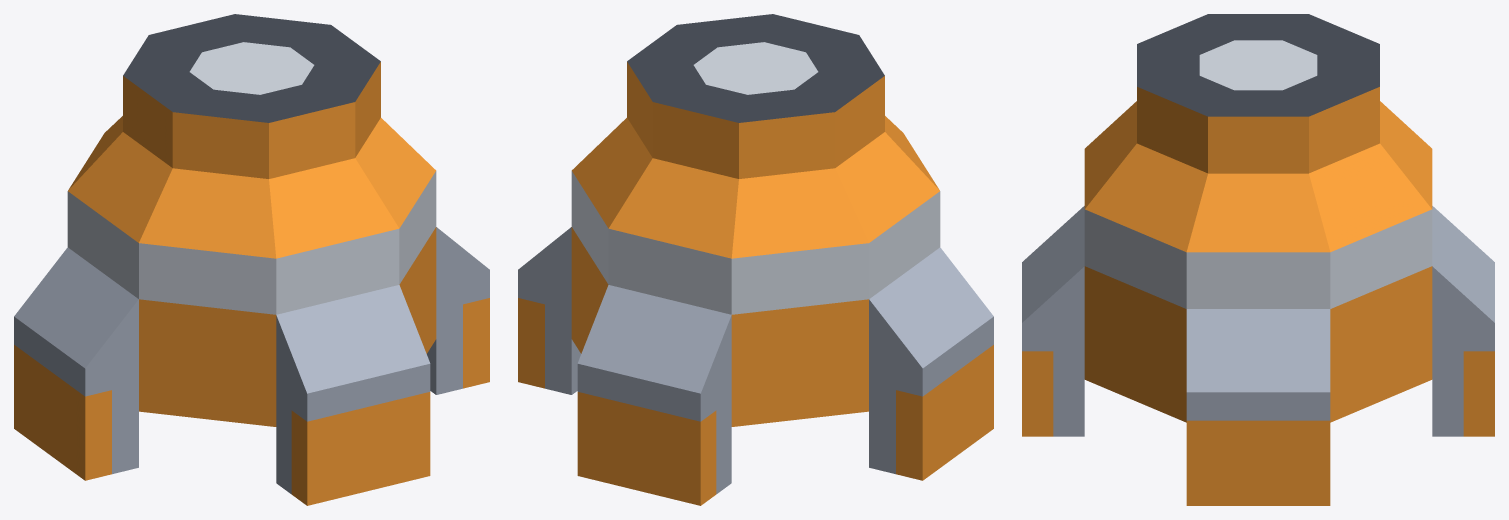
The model's file is machine_barrelLarge.dae.
3 renders of one model, left to right at view 1: azimuth 30°, elevation 25°; view 2: azimuth 150°, elevation 25°; view 3: azimuth 270°, elevation 25°, orthographic.
Visible parts, largest first — view 1: machine_barrelLarge; view 2: machine_barrelLarge; view 3: machine_barrelLarge.
Boxes of the visible parts, bbox=[...] form: machine_barrelLarge: bbox=[14, 14, 489, 505]; machine_barrelLarge: bbox=[518, 14, 993, 505]; machine_barrelLarge: bbox=[1022, 14, 1494, 505].
Size of the model in its own units: 0.7543 by 0.6 by 0.7543.
